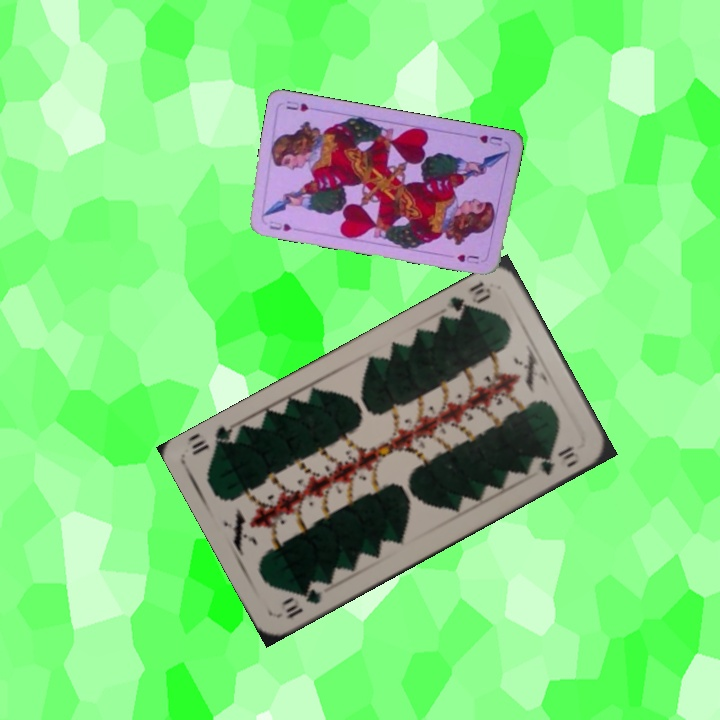G10: (442, 277, 494, 322), (281, 584, 324, 622)
HU: (467, 131, 505, 149), (266, 217, 294, 234)
